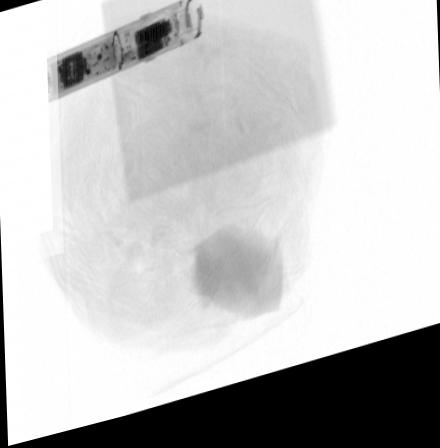Baton: (45, 4, 206, 107)
